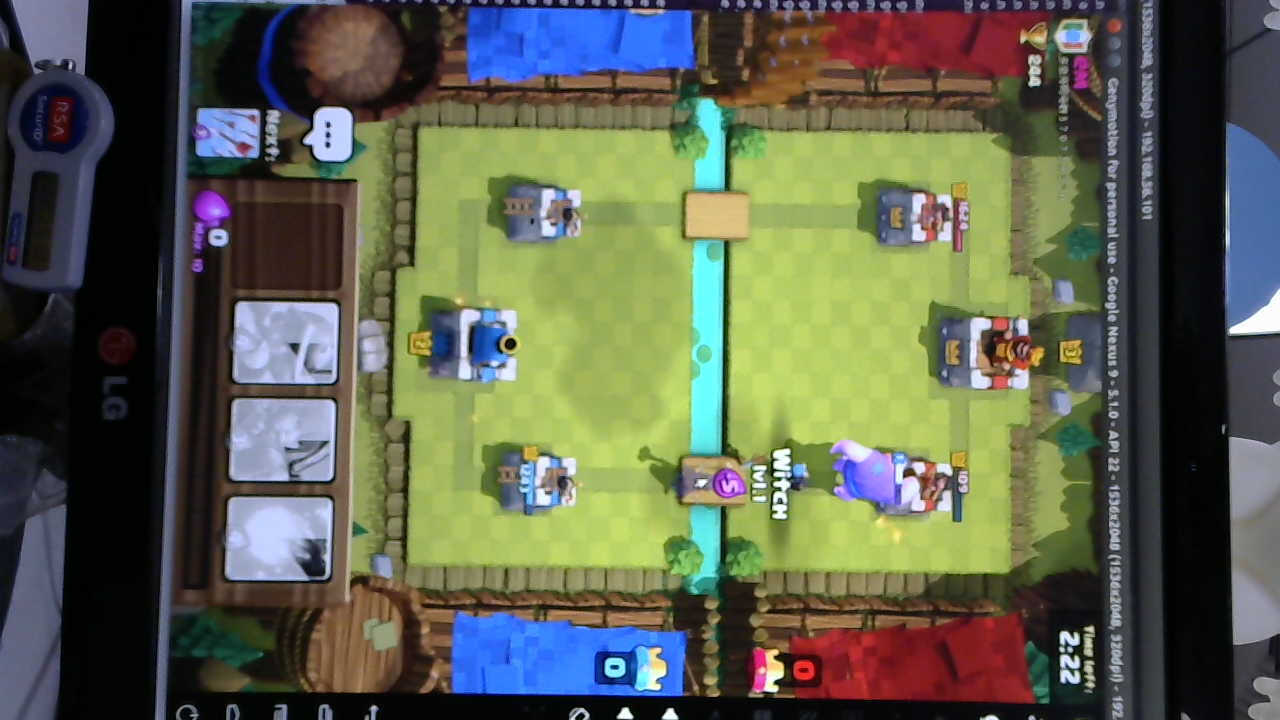arena: (502, 448, 582, 515), (500, 184, 580, 241)
bomb: (782, 458, 815, 491)
earena: (869, 186, 959, 247), (886, 458, 957, 518)
eking: (937, 311, 1040, 392)
giant: (832, 437, 907, 510)
king: (434, 305, 527, 385)
